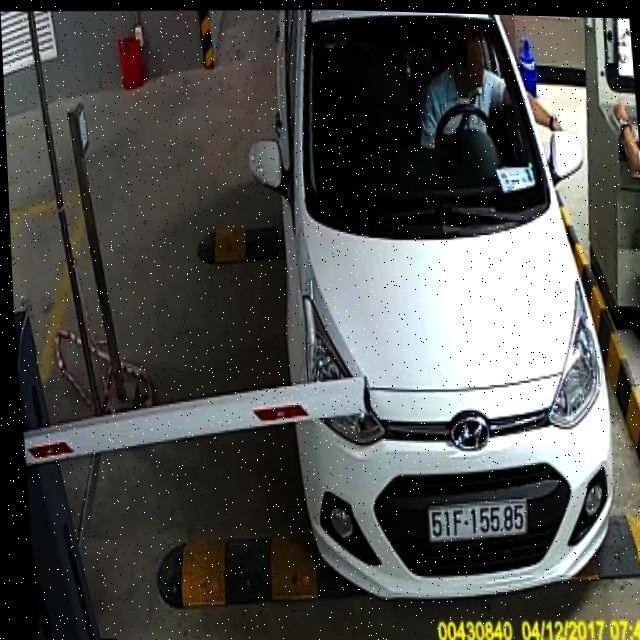car: (232, 7, 626, 613)
plate: (420, 496, 536, 543)
